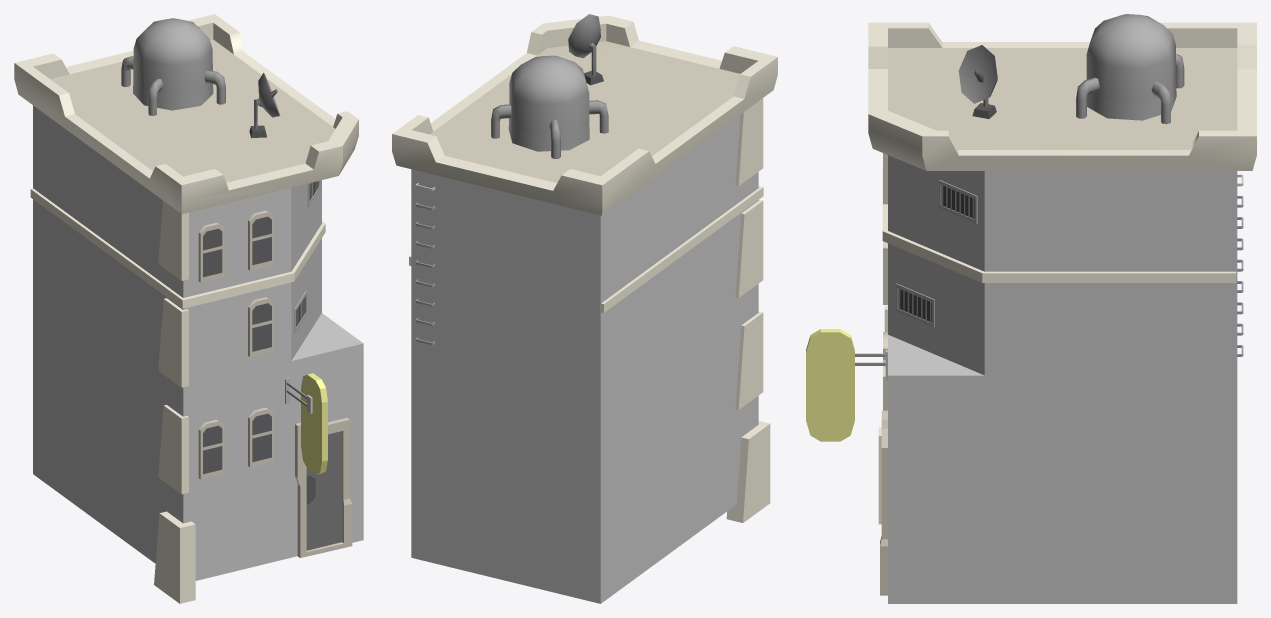
File: NorthWest_House_2075.fbx
The picture shows the model from 3 angles, left to right: view 1: azimuth 30°, elevation 25°; view 2: azimuth 150°, elevation 25°; view 3: azimuth 270°, elevation 25°; orthographic projection. The views are drawn at different scales.
Parts seen in each view (by area): view 1: NorthWest_House_2075; view 2: NorthWest_House_2075; view 3: NorthWest_House_2075.
Part boxes in pixels (x1,y1,x2,y2): NorthWest_House_2075: (14, 14, 363, 603); NorthWest_House_2075: (392, 14, 777, 603); NorthWest_House_2075: (806, 14, 1256, 603).
Bounding box in the file's own units: 17.36 × 39.47 × 29.09.
